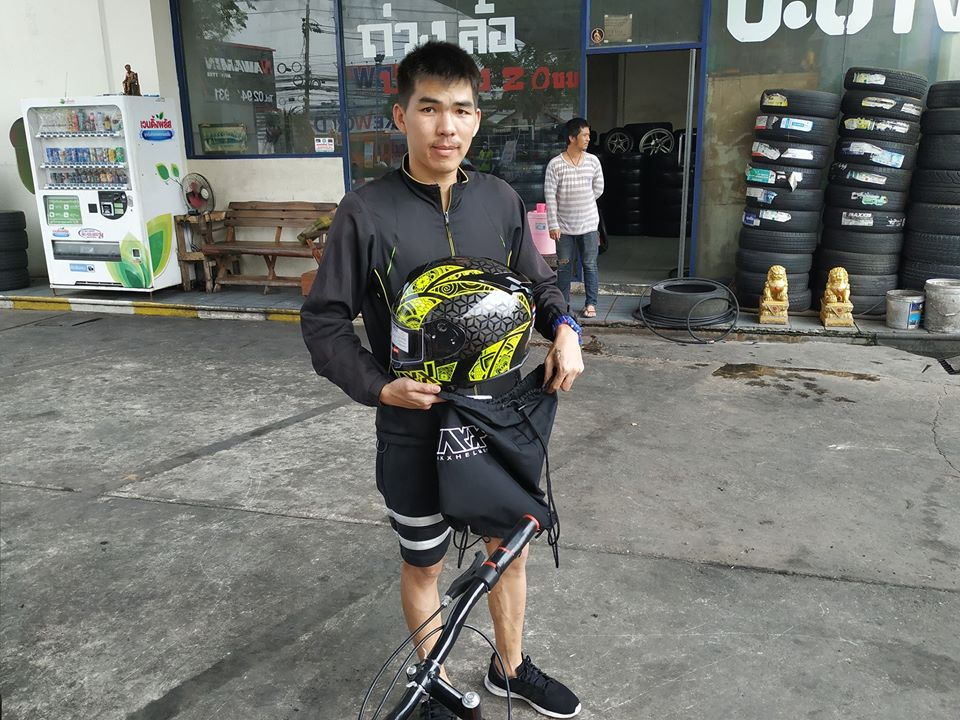helmet: (390, 255, 536, 390)
